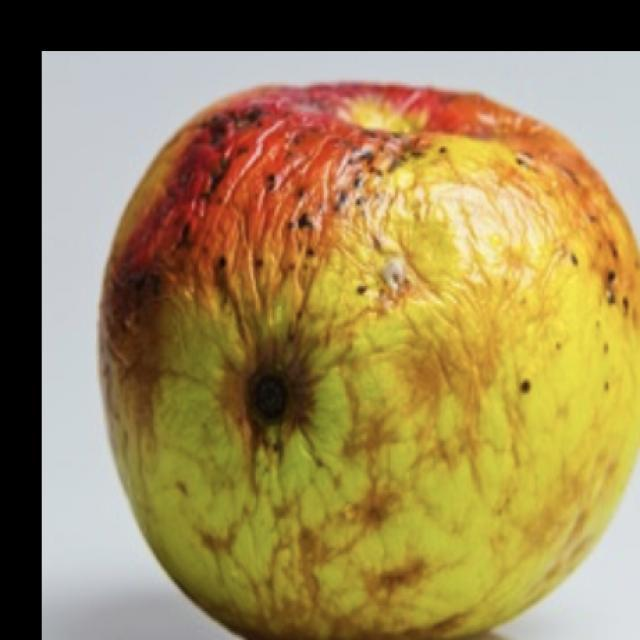Rotten: (93, 78, 640, 640)
